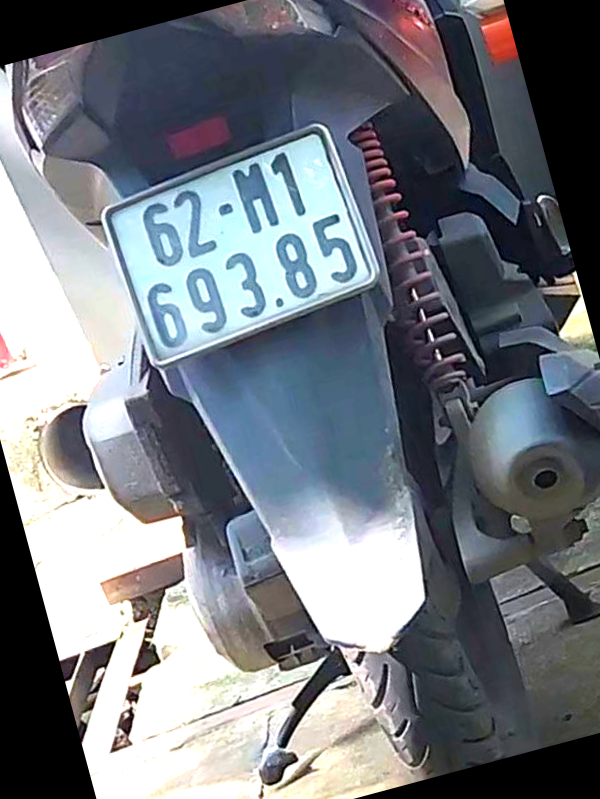number: (102, 128, 377, 357)
